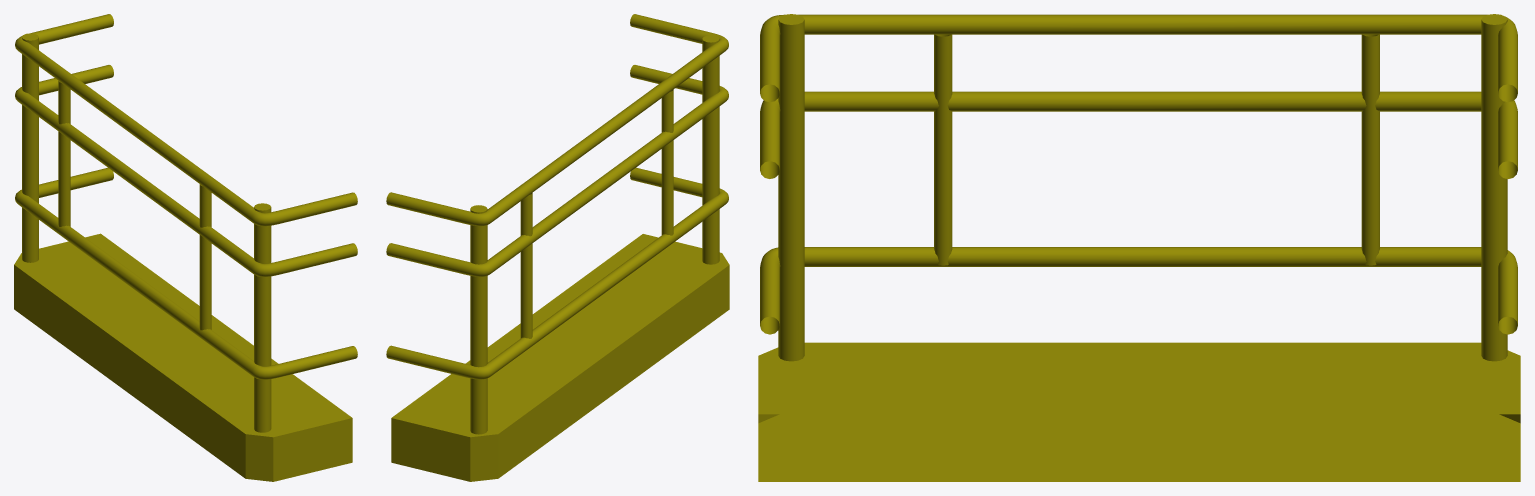
Rendered from SM_Balcon_small.fbx.
3 views of the same model, side by side, from view 1: azimuth 30°, elevation 25°; view 2: azimuth 150°, elevation 25°; view 3: azimuth 270°, elevation 25° (orthographic). The views are drawn at different scales.
Visible parts, largest first — view 1: Balcon_small; view 2: Balcon_small; view 3: Balcon_small.
Part boxes in pixels (x1=…): Balcon_small: x1=14, y1=14, x2=357, y2=481; Balcon_small: x1=386, y1=14, x2=729, y2=481; Balcon_small: x1=758, y1=14, x2=1520, y2=481.
Bounding box in the file's own units: 17.95 × 44.57 × 76.23.
